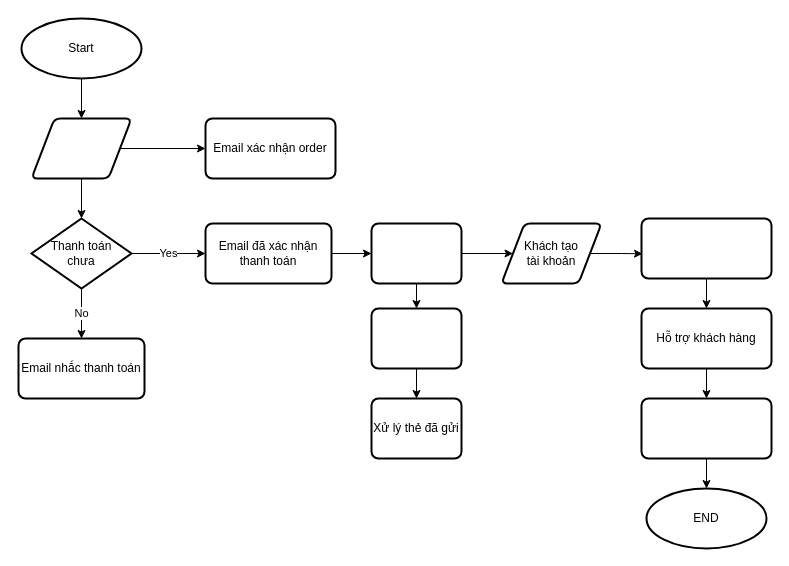
Image size: 789x566. Some labels were removed from this diagram. The shapes that lost their labels are listed below. From the top down, each one's centre as x and y in pixels, then its label:
At point (81, 148): "Read Order Inffo".
At point (416, 253): "Làm thẻ".
At point (706, 248): "Email Cảm ơn".
At point (416, 338): "Gửi thẻ".
At point (706, 428): "Đã hoàn thành và lưu vào hệ thống".
